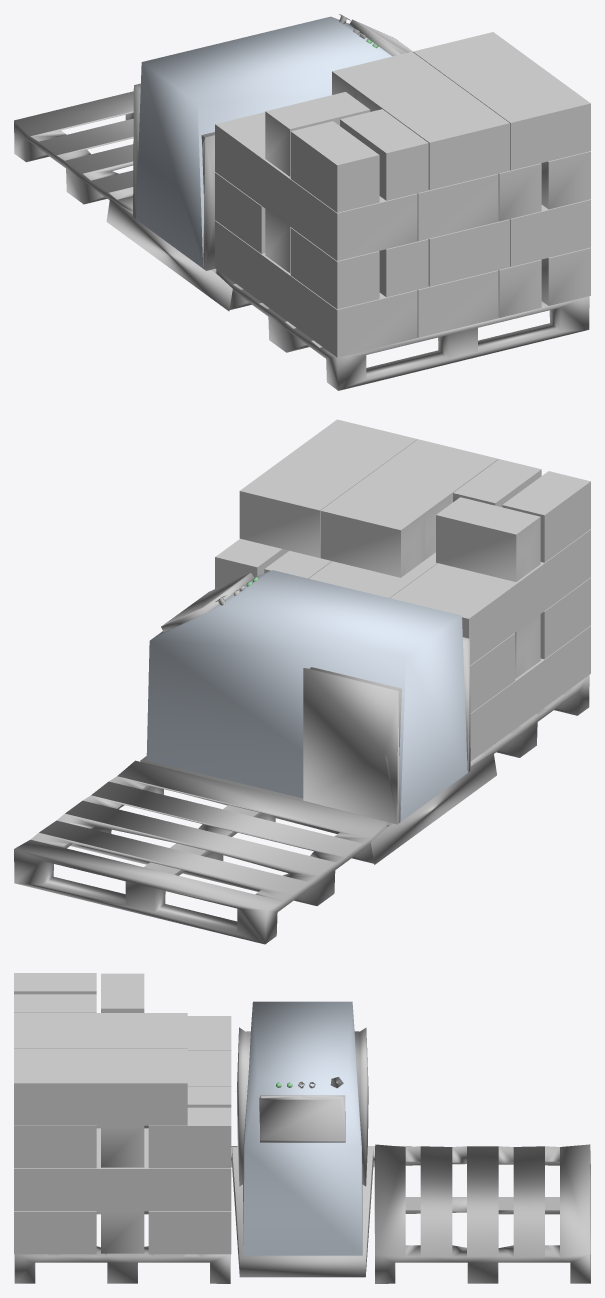
3 renders of one model, top to bottom at view 1: azimuth 30°, elevation 25°; view 2: azimuth 150°, elevation 25°; view 3: azimuth 270°, elevation 25°, orthographic. The views are drawn at different scales.
Parts seen in each view (by area): view 1: Final2.001; view 2: Final2.001; view 3: Final2.001.
Part boxes in pixels (x1=…): Final2.001: x1=14, y1=14, x2=590, y2=390; Final2.001: x1=14, y1=419, x2=590, y2=944; Final2.001: x1=14, y1=973, x2=590, y2=1283.
Bounding box in the file's own units: 1.23 × 1.02 × 2.66.
